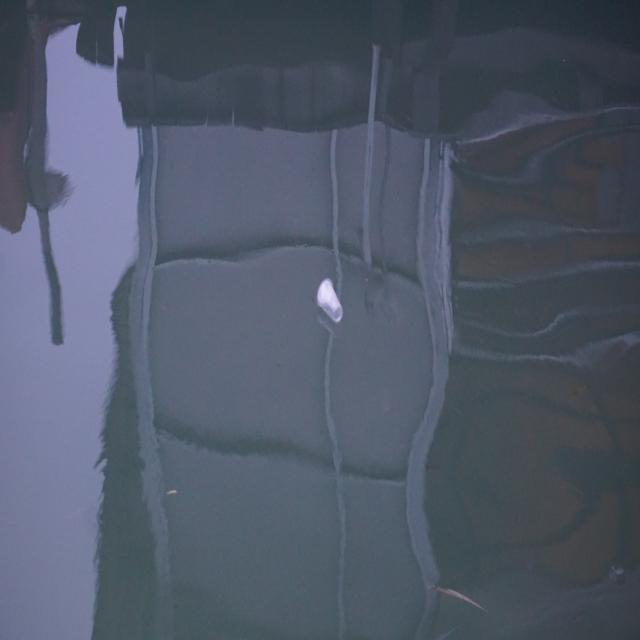Bungkus Minuman: (314, 273, 347, 331)
